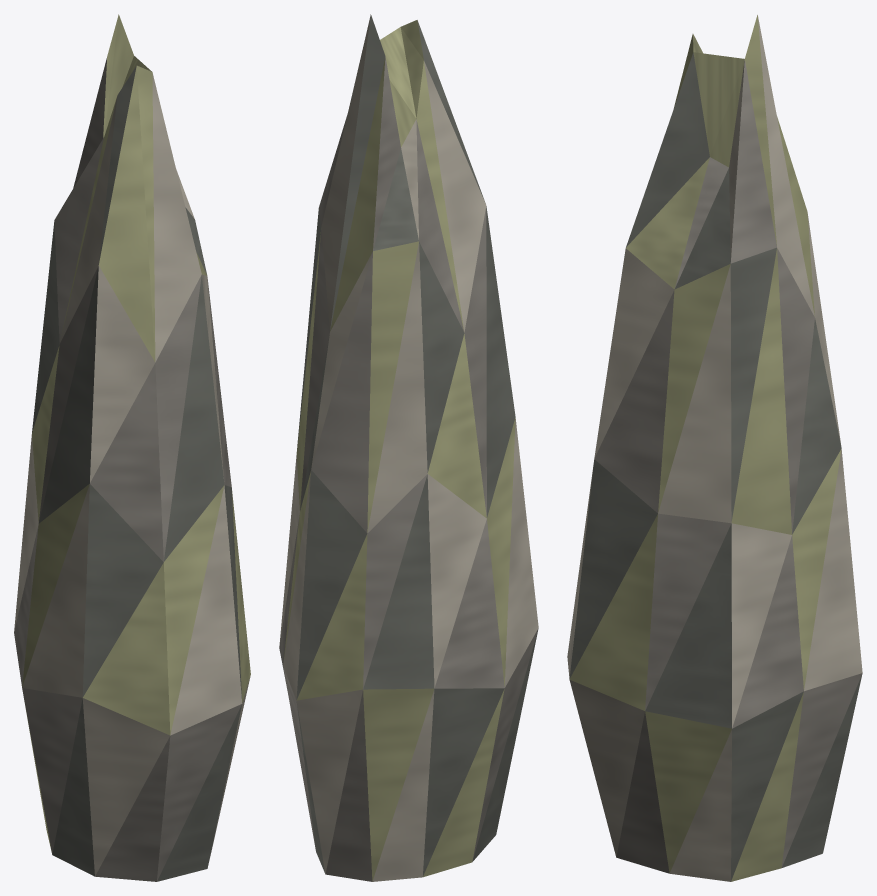
File: stone_menhir_01.fbx
3 views of the same model, side by side, from view 1: azimuth 30°, elevation 25°; view 2: azimuth 150°, elevation 25°; view 3: azimuth 270°, elevation 25° (orthographic). The views are drawn at different scales.
Visible parts, largest first — view 1: stone_menhir_01; view 2: stone_menhir_01; view 3: stone_menhir_01.
Boxes of the visible parts, box(x1,y1,x2,y2) form: stone_menhir_01: box(14, 14, 250, 881); stone_menhir_01: box(279, 14, 538, 881); stone_menhir_01: box(567, 15, 862, 881).
Bounding box in the file's own units: 86 × 312 × 100.
Materials: 1 (1 with a texture image).
